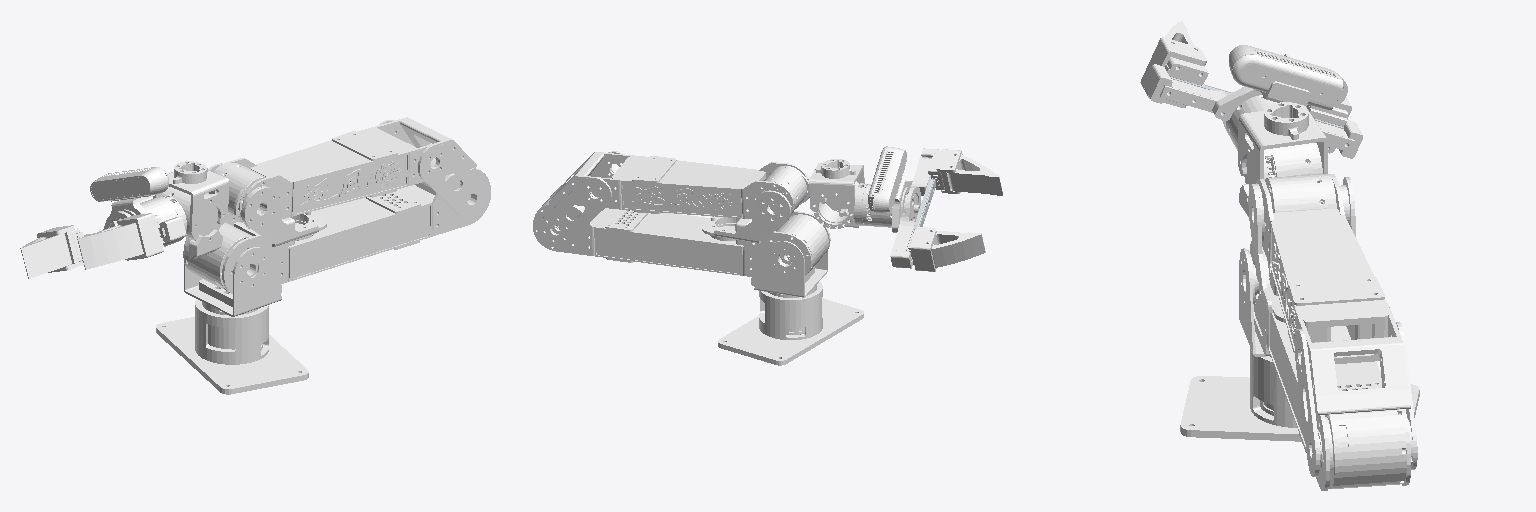
URDF robot description (sukinee_urdf):
<?xml version="1.0" ?>
<!-- =================================================================================== -->
<!-- |    This document was autogenerated by xacro from src/sukinee_urdf/urdf/sukinee_urdf.urdf.xacro | -->
<!-- |    EDITING THIS FILE BY HAND IS NOT RECOMMENDED                                 | -->
<!-- =================================================================================== -->
<robot name="sukinee_urdf">
  <link name="world"/>
  <joint name="world_to_base_link" type="fixed">
    <parent link="world"/>
    <child link="base_link"/>
    <origin rpy="0 0 0" xyz="0 0 0.0"/>
  </joint>
  <link name="base_link">
    <inertial>
      <origin rpy="0 0 0" xyz="1.32130893254478E-07 1.0878882315303E-07 0.0145123930882944"/>
      <mass value="0.258345451540463"/>
      <inertia ixx="0.000255695833262824" ixy="-8.50566806153412E-06" ixz="6.25989218367775E-10" iyy="0.000143791450764687" iyz="5.1542362971656E-10" izz="0.0003184122634403"/>
    </inertial>
    <visual>
      <origin rpy="0 0 0" xyz="0 0 0"/>
      <geometry>
        <mesh filename="package://sukinee_urdf/meshes/urdf2/base_link.STL"/>
      </geometry>
      <material name="">
        <color rgba="1 1 1 1"/>
      </material>
    </visual>
    <collision>
      <origin rpy="0 0 0" xyz="0 0 0"/>
      <geometry>
        <mesh filename="package://sukinee_urdf/meshes/urdf2/base_link.STL"/>
      </geometry>
    </collision>
  </link>
  <link name="Link1">
    <inertial>
      <origin rpy="0 0 0" xyz="-0.00339213548156639 0.000304711073311301 0.034122625208467"/>
      <mass value="0.173656729959474"/>
      <inertia ixx="8.56959788246817E-05" ixy="2.57981779041257E-06" ixz="7.14608803543954E-07" iyy="7.07301657377921E-05" iyz="1.19276284474143E-07" izz="9.04237787575582E-05"/>
    </inertial>
    <visual>
      <origin rpy="0 0 0" xyz="0 0 0"/>
      <geometry>
        <mesh filename="package://sukinee_urdf/meshes/urdf2/Link1.STL"/>
      </geometry>
      <material name="">
        <color rgba="1 1 1 1"/>
      </material>
    </visual>
    <collision>
      <origin rpy="0 0 0" xyz="0 0 0"/>
      <geometry>
        <mesh filename="package://sukinee_urdf/meshes/urdf2/Link1.STL"/>
      </geometry>
    </collision>
  </link>
  <joint name="Joint1" type="continuous">
    <origin rpy="0 0 0" xyz="0 0 0.0514"/>
    <parent link="base_link"/>
    <child link="Link1"/>
    <axis xyz="0 0 -1"/>
    <limit effort="5" velocity="3.14"/>
  </joint>
  <link name="Link2">
    <inertial>
      <origin rpy="0 0 0" xyz="0.164355934511196 0.0107983189121957 -0.0273278206693135"/>
      <mass value="0.486273817491279"/>
      <inertia ixx="0.000131700208765616" ixy="-3.59955416546668E-05" ixz="-4.49796251556987E-06" iyy="0.00142428639296128" iyz="-7.11032579861893E-07" izz="0.00143980686835948"/>
    </inertial>
    <visual>
      <origin rpy="0 0 0" xyz="0 0 0"/>
      <geometry>
        <mesh filename="package://sukinee_urdf/meshes/urdf2/Link2.STL"/>
      </geometry>
      <material name="">
        <color rgba="1 1 1 1"/>
      </material>
    </visual>
    <collision>
      <origin rpy="0 0 0" xyz="0 0 0"/>
      <geometry>
        <mesh filename="package://sukinee_urdf/meshes/urdf2/Link2.STL"/>
      </geometry>
    </collision>
  </link>
  <joint name="Joint2" type="revolute">
    <origin rpy="-1.5708 -0.00097565 0.16603" xyz="-0.010939 0.025949 0.0425"/>
    <parent link="Link1"/>
    <child link="Link2"/>
    <axis xyz="0 0 -1"/>
    <limit effort="5" lower="-0.79" upper="0.79" velocity="3.14"/>
  </joint>
  <link name="Link3">
    <inertial>
      <origin rpy="0 0 0" xyz="-0.129522607900688 -0.0521849921825459 -0.0273613995018329"/>
      <mass value="0.324306511251341"/>
      <inertia ixx="8.179700405764E-05" ixy="-4.69997732333903E-05" ixz="1.35034163751212E-06" iyy="0.000731273265167081" iyz="-3.54063317410718E-07" izz="0.00075003040907452"/>
    </inertial>
    <visual>
      <origin rpy="0 0 0" xyz="0 0 0"/>
      <geometry>
        <mesh filename="package://sukinee_urdf/meshes/urdf2/Link3.STL"/>
      </geometry>
      <material name="">
        <color rgba="1 1 1 1"/>
      </material>
    </visual>
    <collision>
      <origin rpy="0 0 0" xyz="0 0 0"/>
      <geometry>
        <mesh filename="package://sukinee_urdf/meshes/urdf2/Link3.STL"/>
      </geometry>
    </collision>
  </link>
  <joint name="Joint3" type="revolute">
    <origin rpy="0 0 0" xyz="0.26636 0.0076666 0"/>
    <parent link="Link2"/>
    <child link="Link3"/>
    <axis xyz="0 0 -1"/>
    <limit effort="5" lower="-0.79" upper="0.79" velocity="3.14"/>
  </joint>
  <link name="Link4">
    <inertial>
      <origin rpy="0 0 0" xyz="-0.0338567228905684 -0.0377615700439491 -0.0271938522907798"/>
      <mass value="0.058588375547201"/>
      <inertia ixx="3.47939295698438E-05" ixy="-9.83781789279702E-06" ixz="8.18793872056976E-08" iyy="4.43014363876168E-05" iyz="1.11539635337878E-07" izz="3.36963199084079E-05"/>
    </inertial>
    <visual>
      <origin rpy="0 0 0" xyz="0 0 0"/>
      <geometry>
        <mesh filename="package://sukinee_urdf/meshes/urdf2/Link4.STL"/>
      </geometry>
      <material name="">
        <color rgba="1 1 1 1"/>
      </material>
    </visual>
    <collision>
      <origin rpy="0 0 0" xyz="0 0 0"/>
      <geometry>
        <mesh filename="package://sukinee_urdf/meshes/urdf2/Link4.STL"/>
      </geometry>
    </collision>
  </link>
  <joint name="Joint4" type="revolute">
    <origin rpy="0 0 0" xyz="-0.25125 -0.065507 -0.0039"/>
    <parent link="Link3"/>
    <child link="Link4"/>
    <axis xyz="0 0 -1"/>
    <limit effort="1.6" lower="-0.79" upper="0.79" velocity="3.14"/>
  </joint>
  <link name="Link5">
    <inertial>
      <origin rpy="0 0 0" xyz="-0.000134027999521009 0.00371921314809703 0.0379219237691387"/>
      <mass value="0.0484344180023895"/>
      <inertia ixx="1.25630144061511E-05" ixy="-5.6639378393227E-08" ixz="2.42191466268887E-08" iyy="1.45689847121451E-05" iyz="-4.17273377359512E-07" izz="1.52122625669006E-05"/>
    </inertial>
    <visual>
      <origin rpy="0 0 0" xyz="0 0 0"/>
      <geometry>
        <mesh filename="package://sukinee_urdf/meshes/urdf2/Link5.STL"/>
      </geometry>
      <material name="">
        <color rgba="1 1 1 1"/>
      </material>
    </visual>
    <collision>
      <origin rpy="0 0 0" xyz="0 0 0"/>
      <geometry>
        <mesh filename="package://sukinee_urdf/meshes/urdf2/Link5.STL"/>
      </geometry>
    </collision>
  </link>
  <joint name="Joint5" type="revolute">
    <origin rpy="1.5708 -1.448 -3.0944" xyz="-0.059809 -0.047874 -0.0245"/>
    <parent link="Link4"/>
    <child link="Link5"/>
    <axis xyz="0 0 -1"/>
    <limit effort="1.6" lower="-0.79" upper="0.79" velocity="3.14"/>
  </joint>
  <link name="Link6">
    <inertial>
      <origin rpy="0 0 0" xyz="0.00409063342879451 -0.00996067616063645 0.0520352103433763"/>
      <mass value="0.159442082245761"/>
      <inertia ixx="3.47012582789967E-05" ixy="-4.54172618430741E-05" ixz="5.33673918445066E-08" iyy="0.000118901432832412" iyz="-7.69611955935196E-07" izz="0.000144711425342682"/>
    </inertial>
    <visual>
      <origin rpy="0 0 0" xyz="0 0 0"/>
      <geometry>
        <mesh filename="package://sukinee_urdf/meshes/urdf2/Link6.STL"/>
      </geometry>
      <material name="">
        <color rgba="1 1 1 1"/>
      </material>
    </visual>
    <collision>
      <origin rpy="0 0 0" xyz="0 0 0"/>
      <geometry>
        <mesh filename="package://sukinee_urdf/meshes/urdf2/Link6.STL"/>
      </geometry>
    </collision>
  </link>
  <joint name="Joint6" type="continuous">
    <origin rpy="1.5708 0.0022273 0.046831" xyz="0.00093628 -0.019978 0.045"/>
    <parent link="Link5"/>
    <child link="Link6"/>
    <axis xyz="0 0 -1"/>
    <limit effort="1.6" velocity="3.14"/>
  </joint>
  <link name="Link8">
    <inertial>
      <origin rpy="0 0 0" xyz="-0.000276263405831388 -0.000144540158330542 0.00302878393276532"/>
      <mass value="0.0196144070602556"/>
      <inertia ixx="6.35208081708408E-06" ixy="-1.31306773576557E-05" ixz="-3.35673793713414E-06" iyy="3.04481945113474E-05" iyz="-1.47615179991108E-06" izz="3.59067618181208E-05"/>
    </inertial>
    <visual>
      <origin rpy="0 0 0" xyz="0 0 0"/>
      <geometry>
        <mesh filename="package://sukinee_urdf/meshes/urdf2/Link8.STL"/>
      </geometry>
      <material name="">
        <color rgba="0.898039215686275 0.917647058823529 0.929411764705882 1"/>
      </material>
    </visual>
    <collision>
      <origin rpy="0 0 0" xyz="0 0 0"/>
      <geometry>
        <mesh filename="package://sukinee_urdf/meshes/urdf2/Link8.STL"/>
      </geometry>
    </collision>
  </link>
  <joint name="Joint8" type="fixed">
    <origin rpy="-0.047686 0.090858 -0.00433" xyz="1.7949E-05 0.00014892 0.075"/>
    <parent link="Link6"/>
    <child link="Link8"/>
    <axis xyz="0 0 0"/>
  </joint>
  <link name="Link7">
    <inertial>
      <origin rpy="0 0 0" xyz="-1.71529457304587E-14 7.24698079324071E-14 0.00566723769356957"/>
      <mass value="0.00564266139065291"/>
      <inertia ixx="4.09819853333976E-07" ixy="4.70458973389534E-23" ixz="-2.64697796016969E-23" iyy="4.09819853333976E-07" iyz="2.62759091456298E-23" izz="7.31414576323275E-07"/>
    </inertial>
    <visual>
      <origin rpy="0 0 0" xyz="0 0 0"/>
      <geometry>
        <mesh filename="package://sukinee_urdf/meshes/urdf2/Link7.STL"/>
      </geometry>
      <material name="">
        <color rgba="1 1 1 1"/>
      </material>
    </visual>
    <collision>
      <origin rpy="0 0 0" xyz="0 0 0"/>
      <geometry>
        <mesh filename="package://sukinee_urdf/meshes/urdf2/Link7.STL"/>
      </geometry>
    </collision>
  </link>
  <joint name="Joint7" type="revolute">
    <origin rpy="0.047489 -0.090961 0" xyz="0.0015425 0.00080701 -0.016911"/>
    <parent link="Link8"/>
    <child link="Link7"/>
    <axis xyz="0 0 -1"/>
    <limit effort="1.6" lower="-0.79" upper="0.79" velocity="3.14"/>
  </joint>
  <link name="Link9">
    <inertial>
      <origin rpy="0 0 0" xyz="0.0191331974047889 -6.56666316107835E-05 -0.0130654638273785"/>
      <mass value="0.0483309612331933"/>
      <inertia ixx="7.79151460694128E-06" ixy="1.62669286704591E-07" ixz="-1.3696775869885E-06" iyy="9.49579838551638E-06" iyz="7.46583427217561E-08" izz="1.10008074782098E-05"/>
    </inertial>
    <visual>
      <origin rpy="0 0 0" xyz="0 0 0"/>
      <geometry>
        <mesh filename="package://sukinee_urdf/meshes/urdf2/right_Link.STL"/>
      </geometry>
      <material name="">
        <color rgba="1 1 1 1"/>
      </material>
    </visual>
    <collision>
      <origin rpy="0 0 0" xyz="0 0 0"/>
      <geometry>
        <mesh filename="package://sukinee_urdf/meshes/urdf2/right_Link.STL"/>
      </geometry>
    </collision>
  </link>
  <joint name="right_finger" type="prismatic">
    <origin rpy="-2.7297 -1.4591 3.1416" xyz="0.037374 0.016369 0.012356"/>
    <parent link="Link8"/>
    <child link="Link9"/>
    <axis xyz="0 0 1"/>
    <limit effort="1" lower="0" upper="0.04" velocity="0.03"/>
    <mimic joint="Joint7" multiplier="0.05" offset="0"/>
  </joint>
  <link name="Link10">
    <inertial>
      <origin rpy="0 0 0" xyz="-0.0190302729313749 -0.00204981438622404 -0.01306546383017"/>
      <mass value="0.0483309609625738"/>
      <inertia ixx="7.77627853114591E-06" ixy="-1.62068909762623E-08" ixz="1.37005094636776E-06" iyy="9.51103438216718E-06" iyz="6.74608448600019E-08" izz="1.1000807426751E-05"/>
    </inertial>
    <visual>
      <origin rpy="0 0 0" xyz="0 0 0"/>
      <geometry>
        <mesh filename="package://sukinee_urdf/meshes/urdf2/left_Link.STL"/>
      </geometry>
      <material name="">
        <color rgba="1 1 1 1"/>
      </material>
    </visual>
    <collision>
      <origin rpy="0 0 0" xyz="0 0 0"/>
      <geometry>
        <mesh filename="package://sukinee_urdf/meshes/urdf2/left_Link.STL"/>
      </geometry>
    </collision>
  </link>
  <joint name="left_finger" type="prismatic">
    <origin rpy="-0.41189 1.4591 0" xyz="-0.038848 -0.01714 0.0038046"/>
    <parent link="Link8"/>
    <child link="Link10"/>
    <axis xyz="0 0 1"/>
    <limit effort="1" lower="0" upper="0.04" velocity="0.03"/>
    <mimic joint="Joint7" multiplier="0.05" offset="0"/>
  </joint>
  <ros2_control name="SukineeSystem" type="system">
    <hardware>
      <plugin>mock_components/GenericSystem</plugin>
      <param name="mock_sensor_commands">false</param>
    </hardware>
    <joint name="Joint1">
      <command_interface name="position"/>
      <state_interface name="position"/>
      <state_interface name="velocity"/>
    </joint>
    <joint name="Joint2">
      <command_interface name="position"/>
      <state_interface name="position"/>
      <state_interface name="velocity"/>
    </joint>
    <joint name="Joint3">
      <command_interface name="position"/>
      <state_interface name="position"/>
      <state_interface name="velocity"/>
    </joint>
    <joint name="Joint4">
      <command_interface name="position"/>
      <state_interface name="position"/>
      <state_interface name="velocity"/>
    </joint>
    <joint name="Joint5">
      <command_interface name="position"/>
      <state_interface name="position"/>
      <state_interface name="velocity"/>
    </joint>
    <joint name="Joint6">
      <command_interface name="position"/>
      <state_interface name="position"/>
      <state_interface name="velocity"/>
    </joint>
    <joint name="Joint7">
      <command_interface name="position"/>
      <state_interface name="position"/>
      <state_interface name="velocity"/>
    </joint>
  </ros2_control>
</robot>

--- Render facts (derived) ---
3 views of the same robot in one strip: view 1: azimuth 30°, elevation 25°; view 2: azimuth 150°, elevation 25°; view 3: azimuth 270°, elevation 25° (orthographic).
Robot: sukinee_urdf — 12 links, 11 joints (5 revolute, 2 continuous, 2 prismatic, 2 fixed); root link world; default pose: every joint at zero.
Links seen in each view (by area): view 1: Link3, Link2, base_link, Link1, Link5, Link6, Link10, Link4, Link9; view 2: Link3, Link2, base_link, Link6, Link1, Link5, Link9, Link10, Link4; view 3: Link3, Link2, Link6, base_link, Link5, Link10, Link4, Link1, Link9.
Boxes of the visible links, box(x1,y1,x2,y2) form: Link3: box(209, 117, 487, 219); Link2: box(183, 158, 490, 293); base_link: box(156, 299, 308, 394); Link1: box(184, 222, 281, 316); Link5: box(153, 161, 228, 260); Link6: box(84, 167, 186, 259); Link10: box(77, 213, 164, 269); Link4: box(208, 163, 326, 246); Link9: box(20, 225, 83, 278); Link3: box(539, 151, 808, 245); Link2: box(533, 185, 830, 277); base_link: box(718, 281, 863, 365); Link6: box(853, 146, 940, 268); Link1: box(751, 214, 828, 297); Link5: box(809, 159, 864, 228); Link9: box(906, 227, 985, 271); Link10: box(928, 149, 1002, 195); Link4: box(702, 170, 810, 243); Link3: box(1256, 174, 1417, 476); Link2: box(1246, 241, 1410, 490); Link6: box(1143, 45, 1362, 158); base_link: box(1180, 348, 1419, 441); Link5: box(1238, 102, 1328, 216); Link10: box(1140, 21, 1208, 107); Link4: box(1248, 177, 1355, 322); Link1: box(1239, 248, 1270, 356); Link9: box(1284, 54, 1351, 153).
Bounding box of the posed robot: 0.5239 × 0.1942 × 0.23 m (x, y, z).
Meshes: 11 distinct files referenced, 11 mesh visuals loaded (11 binary STL).
